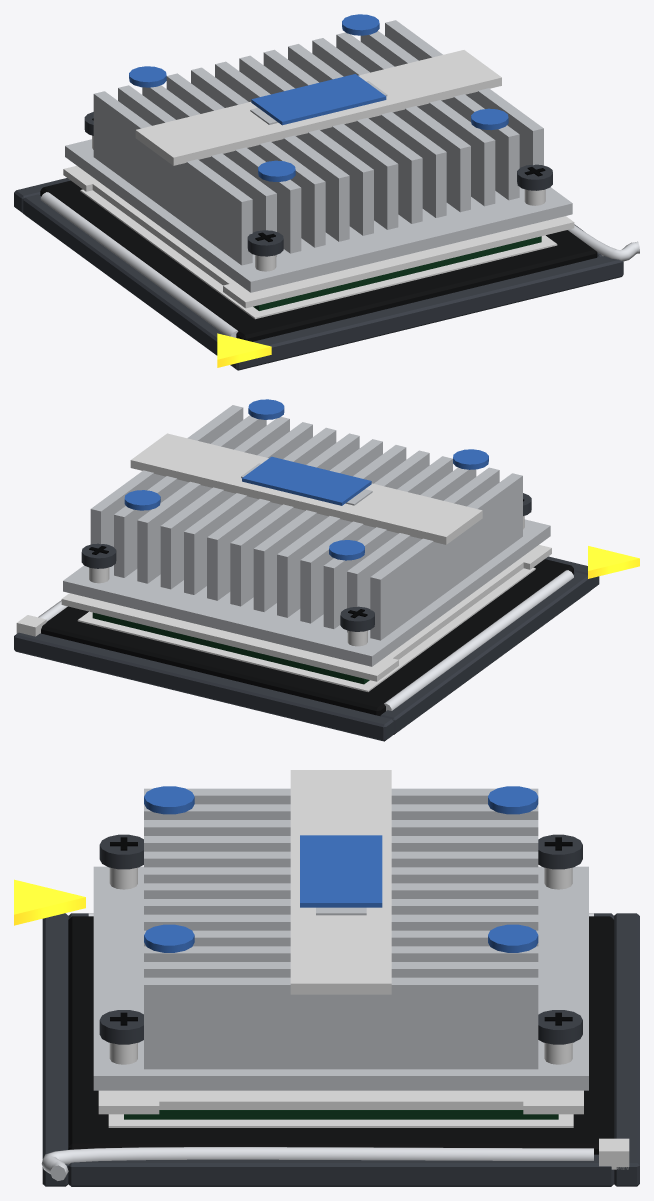
File: hwm_cpu_pentium_g4560.glb
3 views of the same model, one above another, from view 1: azimuth 30°, elevation 25°; view 2: azimuth 150°, elevation 25°; view 3: azimuth 270°, elevation 25° (orthographic). The views are drawn at different scales.
Visible parts, largest first — view 1: Cooler, Socket, Frame, CPU, Screw_1, Screw_3, Lever; view 2: Cooler, Socket, Frame, CPU, Screw_2, Screw_0; view 3: Cooler, Socket, Frame, Lever, CPU, Screw_0, Screw_1, Screw_2, Screw_3.
Part boxes in pixels (x1,y1,x2,y2): Cooler: (65,14,572,292); Socket: (14,178,623,370); Frame: (63,165,574,308); CPU: (253,236,541,310); Screw_1: (247,230,283,271); Screw_3: (517,164,552,205); Lever: (568,225,639,261); Cooler: (63,399,550,666); Socket: (14,546,639,741); Frame: (61,545,551,681); CPU: (92,612,369,684); Screw_2: (81,543,116,583); Screw_0: (340,606,374,646); Cooler: (93,770,588,1090); Socket: (14,879,639,1186); Frame: (98,1090,583,1114); Lever: (41,1147,593,1180); CPU: (124,1110,558,1119); Screw_0: (538,834,582,889); Screw_1: (99,834,143,889); Screw_2: (538,1010,582,1064); Screw_3: (99,1010,143,1064).
Size of the model in its own units: 0.1338 by 0.0428 by 0.1239.
